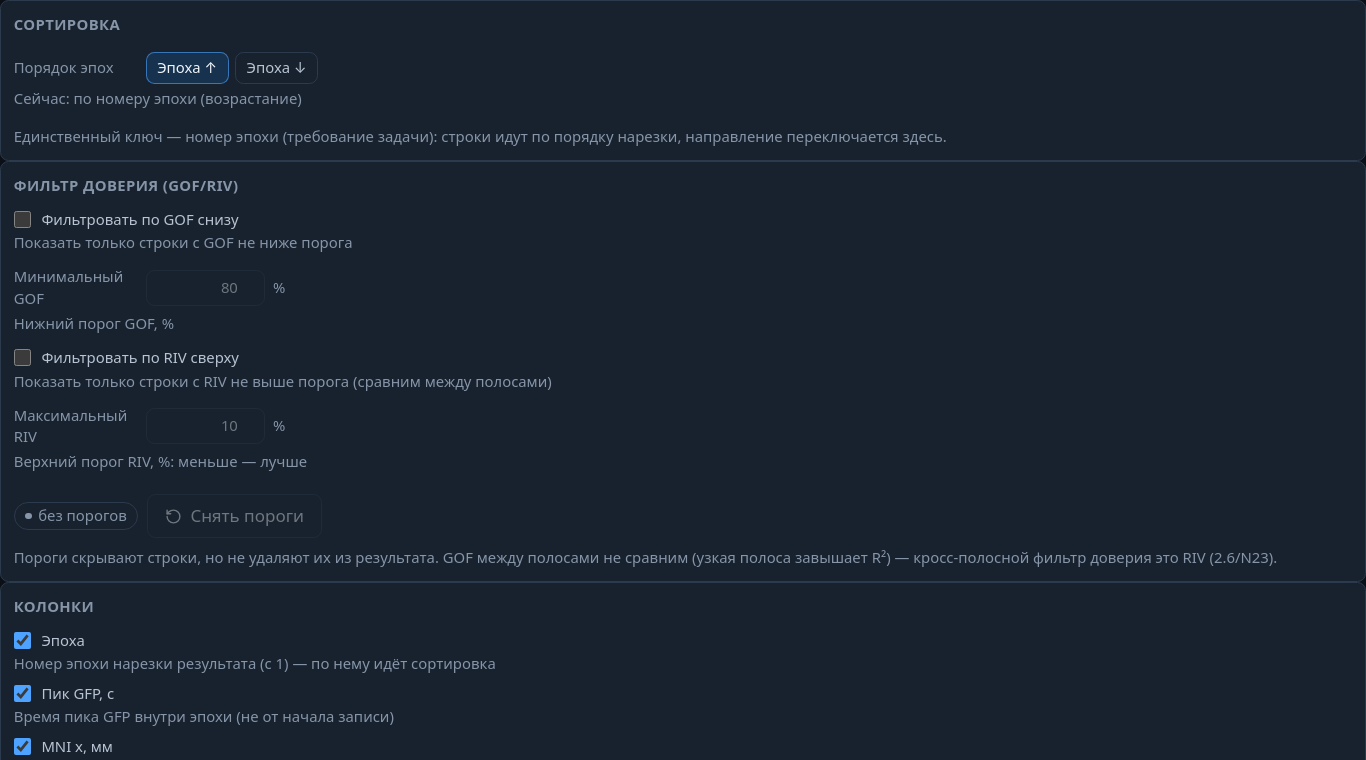
it: панель раздела «Таблица локализации» › переключает порядок строк и ничего не запрашивает
Check: the text "Сейчас: по номеру эпохи (возрастание)" is shown, box [14,88,302,108]
What coordinates should you click on to do the following:
click the button "Эпоха ↓"
I would click on:
 (277, 68)
Its box is [235,52,318,84].
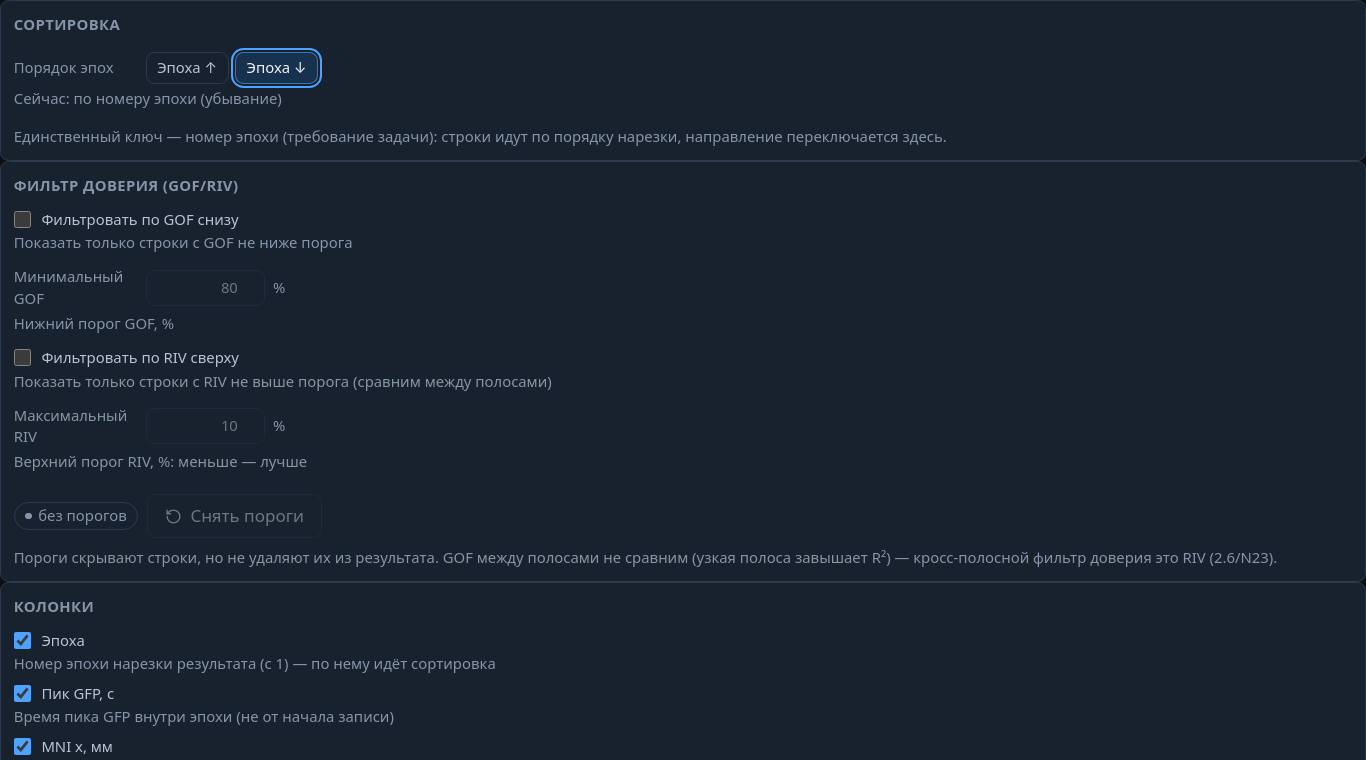
Check: the text "Сейчас: по номеру эпохи (убывание)" is shown, box [14,88,282,108]
